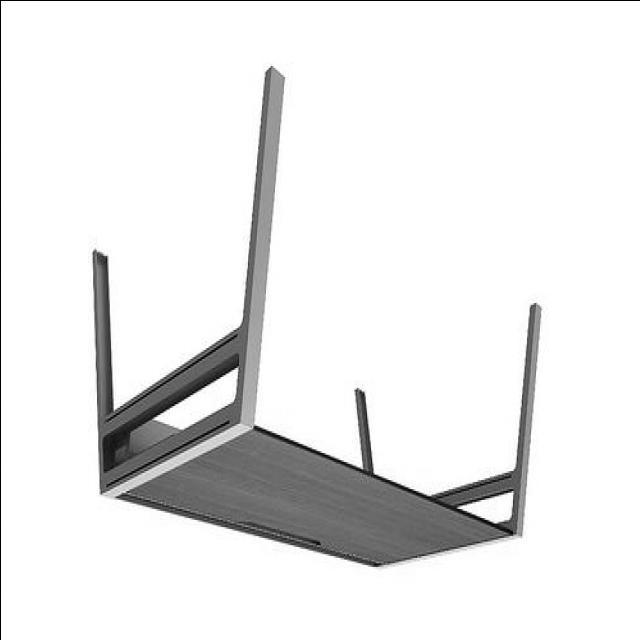table: (90, 68, 542, 569)
